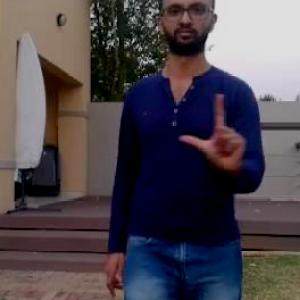land_hand: (177, 88, 256, 180)
